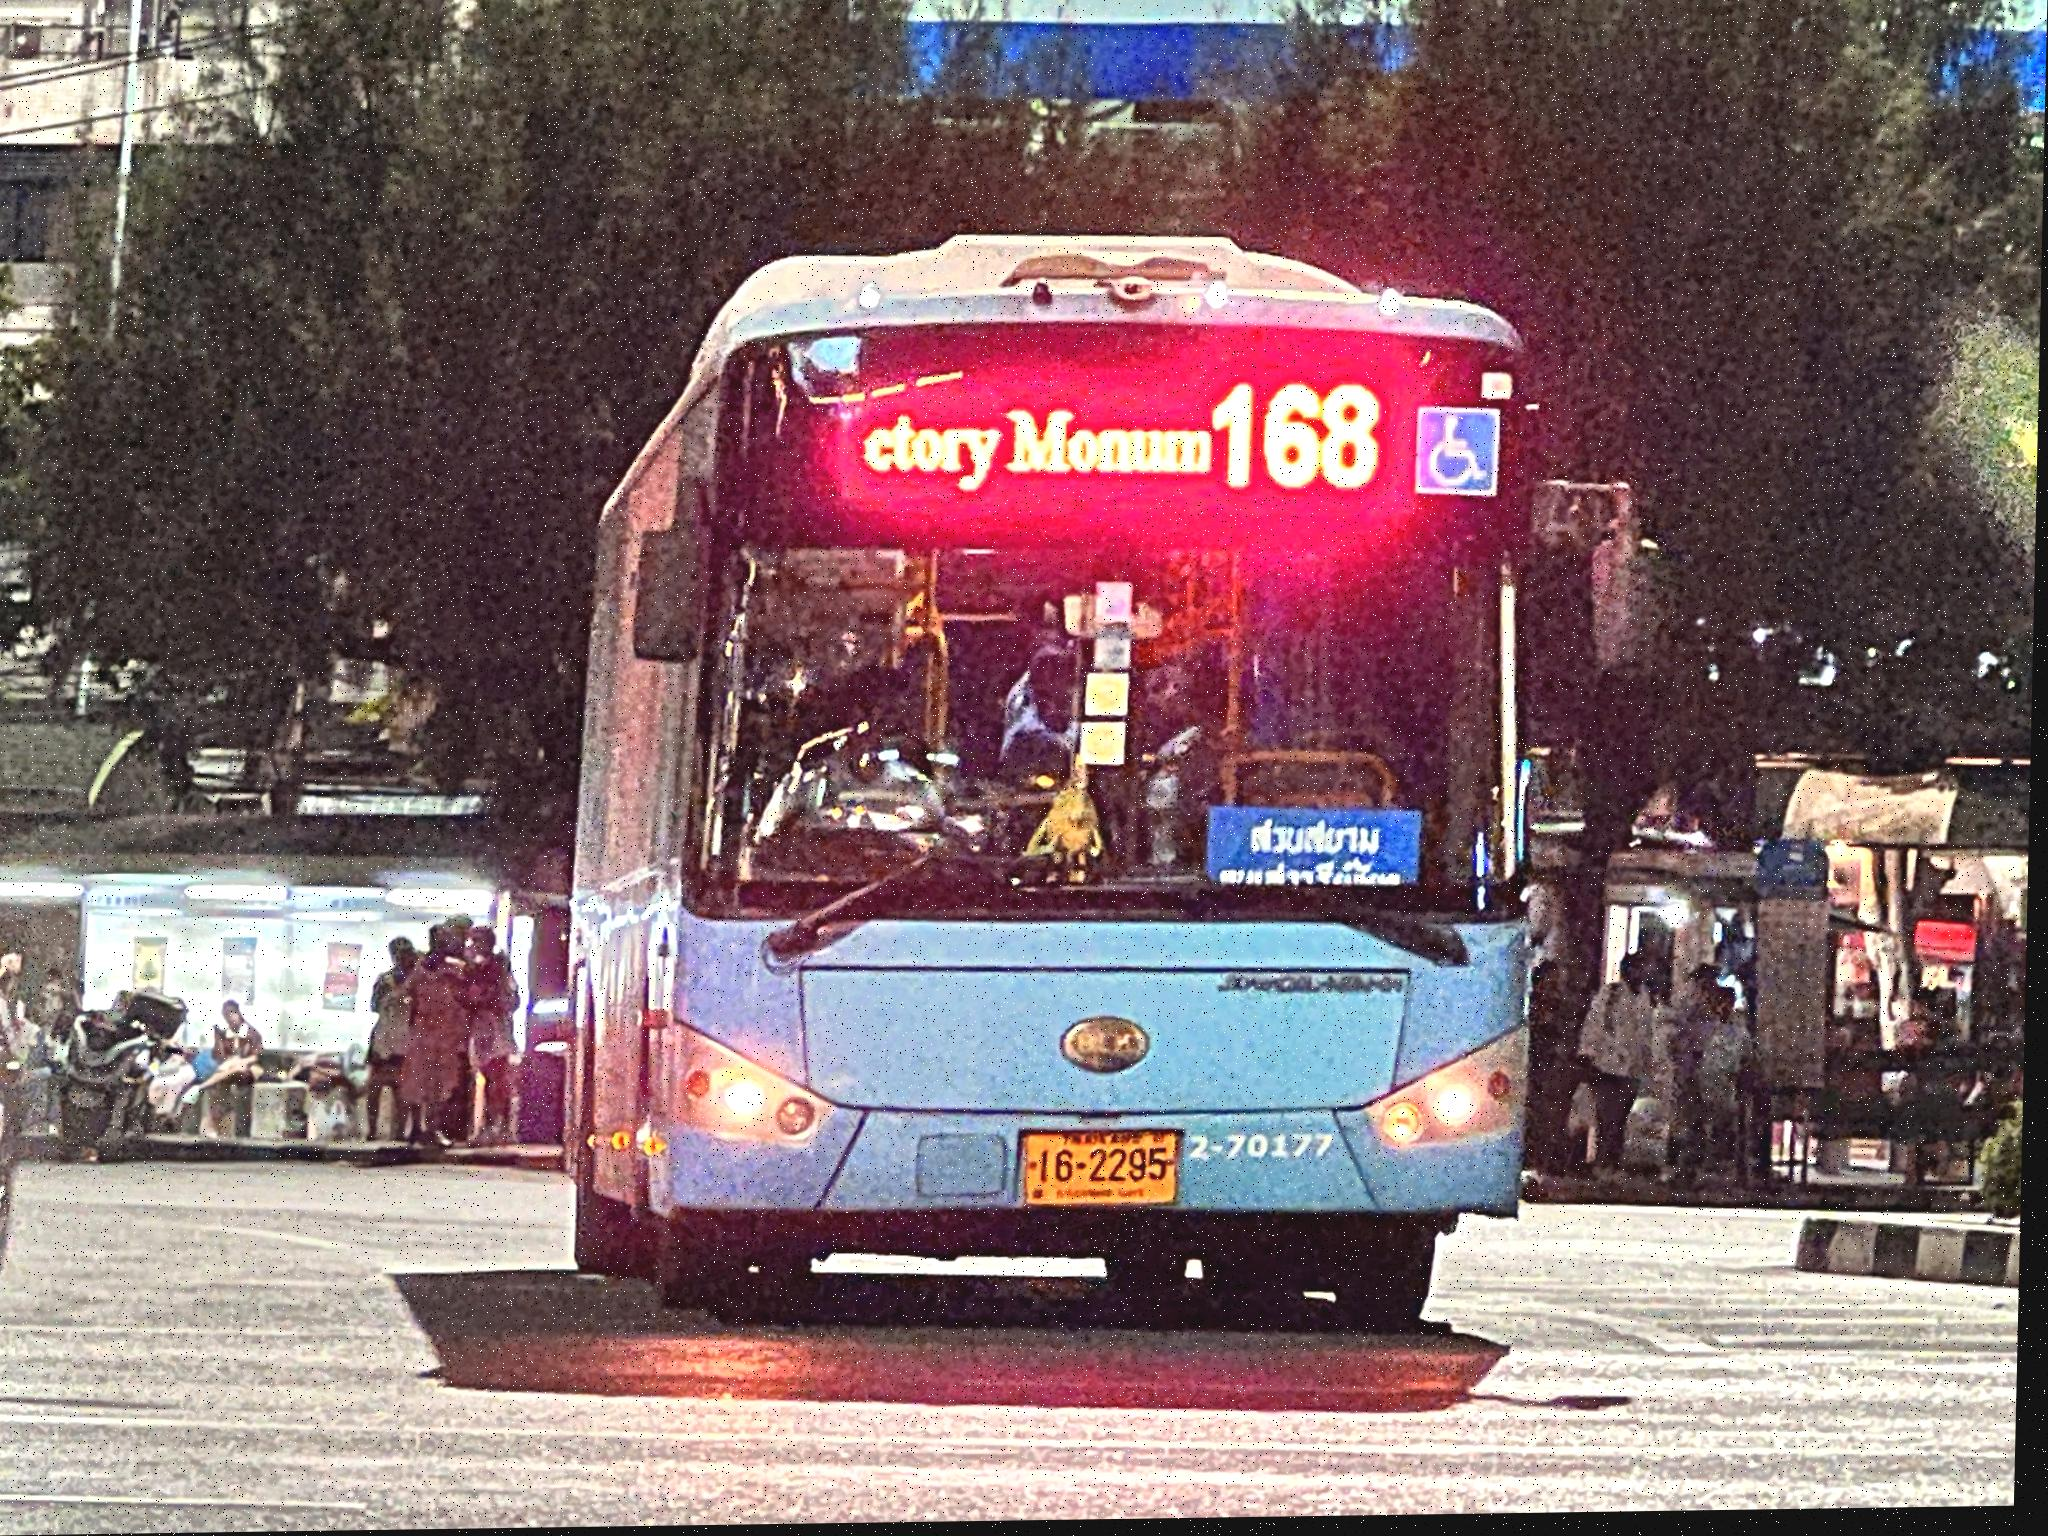BMTA-bus: (531, 198, 1682, 1355)
Bus Line Number: (1206, 373, 1393, 518)
Bus Side Number: (1188, 1123, 1343, 1179)
Destination Sign: (1206, 810, 1426, 897)
